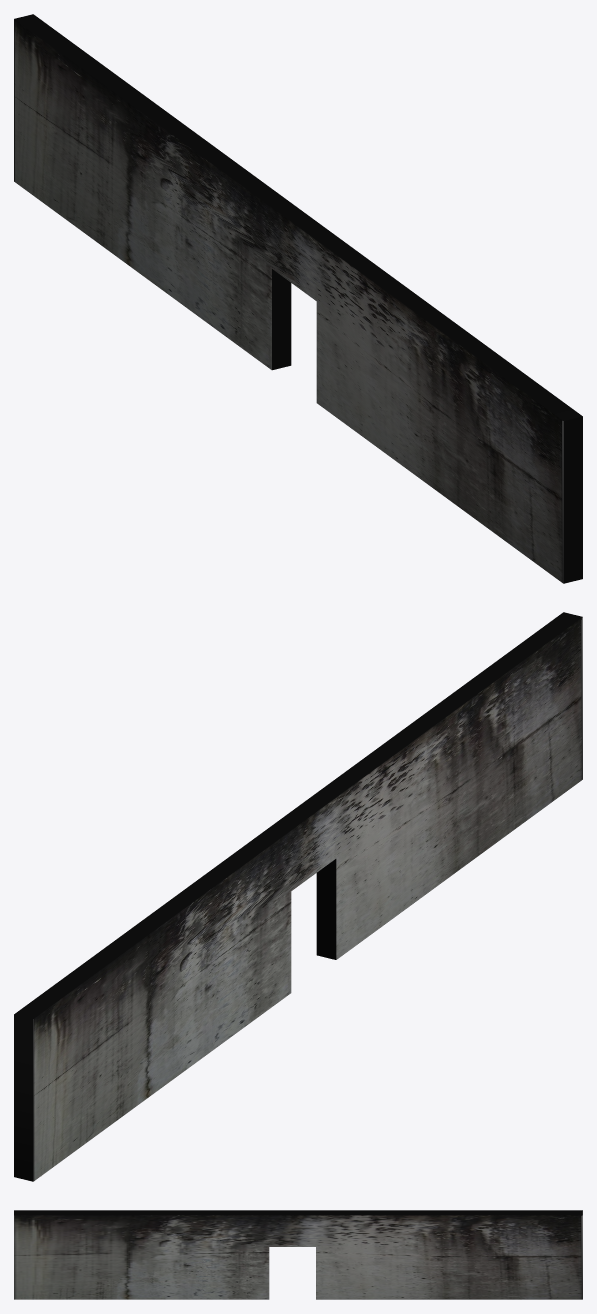
File: hallway_wall.fbx
3 renders of one model, top to bottom at view 1: azimuth 30°, elevation 25°; view 2: azimuth 150°, elevation 25°; view 3: azimuth 270°, elevation 25°, orthographic. The views are drawn at different scales.
Visible parts, largest first — view 1: hallway_wall; view 2: hallway_wall; view 3: hallway_wall.
Part boxes in pixels (left/top/right/bottom): hallway_wall: left=14, top=14, right=582, bottom=583; hallway_wall: left=14, top=612, right=582, bottom=1181; hallway_wall: left=14, top=1210, right=582, bottom=1299.
Bounding box in the file's own units: 1 × 8 × 49.
1 material, 1 textured.
